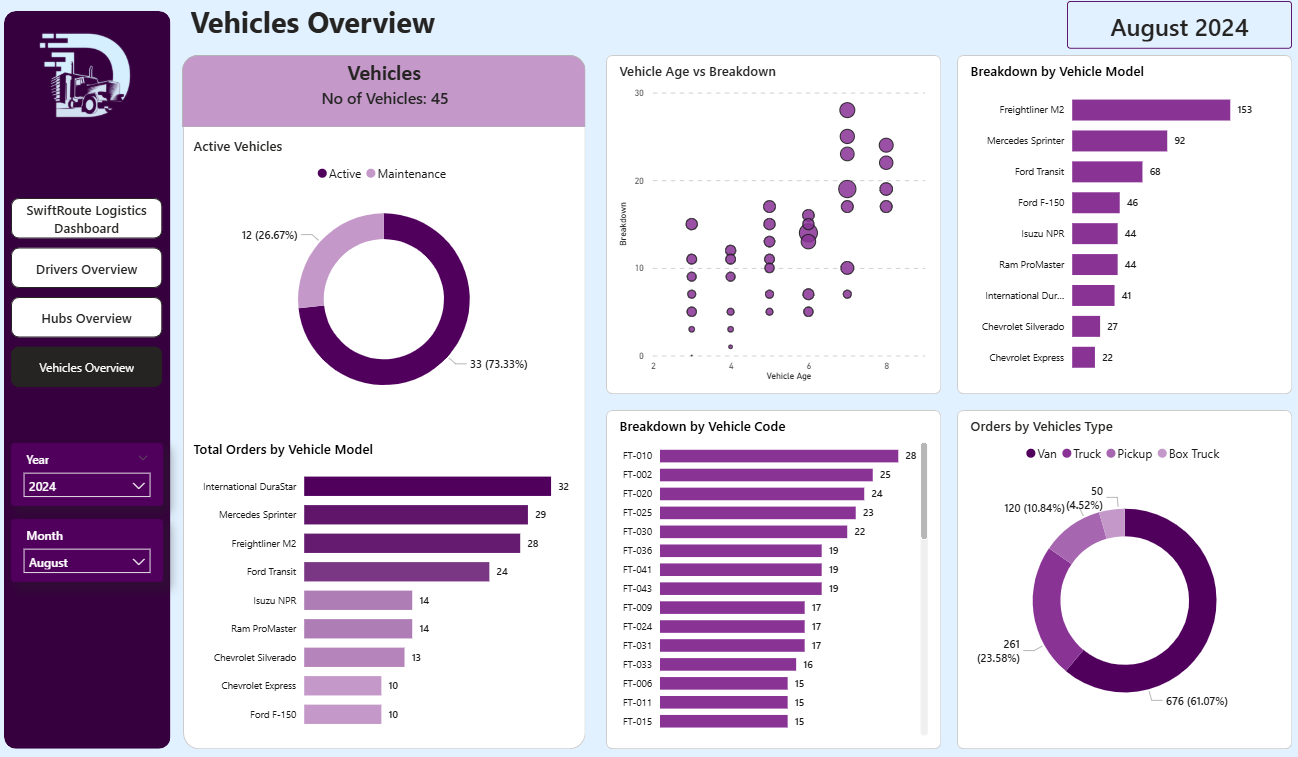

This screenshot's page, from the dashboard's own definition file:
{"tool":"powerbi","page":{"name":"Vehicles Overview","canvas":[1450,850],"ordinal":3},"visuals":[{"type":"shape","box":[7.7,15.4,185.1,819.8],"z":0},{"type":"textbox","box":[210.4,0,498,56.2],"z":1000},{"type":"slicer","fields":{"Values":["Date Table.Year"]},"box":[15.4,495.9,168.6,70],"z":2000},{"type":"slicer","fields":{"Values":["Date Table.Month"]},"box":[15.4,579.7,168.6,70],"z":3000},{"type":"image","box":[33.1,29.7,131.1,122.3],"z":4000},{"type":"cardVisual","fields":{"Data":["Orders.Year Month Title"]},"box":[1188.9,4.4,250,53.3],"z":5000},{"type":"shape","box":[676.5,63.9,372.4,376.8],"z":6000},{"type":"shape","box":[207.1,63.9,447.3,771.3],"z":7000},{"type":"shape","box":[206,63.9,448.4,80.4],"z":8000},{"type":"textbox","box":[262.2,63.9,336.1,40.8],"z":9000},{"type":"cardVisual","fields":{"Data":["Vehicles.No of Vehicles"]},"box":[325,94.8,211.6,30.9],"z":10000},{"type":"donutChart","title":"Active Vehicles","fields":{"Category":["Vehicles.Vehicle Status"],"Y":["CountNonNull(Vehicles.Vehicle ID)"]},"box":[213.8,155.4,433,311.8],"z":11000},{"type":"barChart","fields":{"Category":["Vehicles.Vehicle Model"],"Y":["Orders.Total Orders"]},"box":[213.8,492.5,433,333.9],"z":12000},{"type":"shape","box":[1066.6,63.9,372.4,376.8],"z":13000},{"type":"scatterChart","title":"Vehicle Age vs Breakdown","fields":{"X":["Vehicles.Vehicle Age"],"Y":["Vehicles.Breakdown"],"Size":["Sum(Vehicles.Breakdown)1"]},"box":[686.4,72.7,352.6,359.2],"z":14000},{"type":"shape","box":[676.5,458.4,372.4,376.8],"z":15000},{"type":"shape","box":[1066.6,458.4,372.4,376.8],"z":16000},{"type":"barChart","title":"Breakdown by Vehicle Code","fields":{"Category":["Vehicles.Vehicle Code"],"Y":["Sum(Vehicles.Breakdown)"]},"box":[686.4,467.2,352.6,359.2],"z":17000},{"type":"barChart","title":"Breakdown by Vehicle Model","fields":{"Y":["Sum(Vehicles.Breakdown)"],"Category":["Vehicles.Vehicle Model"]},"box":[1076.5,72.7,352.6,359.2],"z":18000},{"type":"donutChart","title":"Orders by Vehicles Type","fields":{"Y":["Orders.Total Orders"],"Category":["Orders.Vehicle Type"]},"box":[1076.5,467.2,352.6,359.2],"z":19000},{"type":"pageNavigator","box":[15.4,223.7,168.6,212.7],"z":20000}]}

Visuals, with their boxes in screenshot pixels (x1, y1, x2, y2), scaled from the page's 1450x850 canvas onto the 1298x757 screenshot:
shape: (x1=7, y1=14, x2=173, y2=744)
textbox: (x1=188, y1=0, x2=634, y2=50)
slicer - Date Table.Year: (x1=14, y1=442, x2=165, y2=504)
slicer - Date Table.Month: (x1=14, y1=516, x2=165, y2=579)
image: (x1=30, y1=26, x2=147, y2=135)
cardVisual - Orders.Year Month Title: (x1=1064, y1=4, x2=1288, y2=51)
shape: (x1=606, y1=57, x2=939, y2=392)
shape: (x1=185, y1=57, x2=586, y2=744)
shape: (x1=184, y1=57, x2=586, y2=129)
textbox: (x1=235, y1=57, x2=536, y2=93)
cardVisual - Vehicles.No of Vehicles: (x1=291, y1=84, x2=480, y2=112)
"Active Vehicles" donutChart: (x1=191, y1=138, x2=579, y2=416)
barChart - Vehicles.Vehicle Model x Orders.Total Orders: (x1=191, y1=439, x2=579, y2=736)
shape: (x1=955, y1=57, x2=1288, y2=392)
"Vehicle Age vs Breakdown" scatterChart: (x1=614, y1=65, x2=930, y2=385)
shape: (x1=606, y1=408, x2=939, y2=744)
shape: (x1=955, y1=408, x2=1288, y2=744)
"Breakdown by Vehicle Code" barChart: (x1=614, y1=416, x2=930, y2=736)
"Breakdown by Vehicle Model" barChart: (x1=964, y1=65, x2=1279, y2=385)
"Orders by Vehicles Type" donutChart: (x1=964, y1=416, x2=1279, y2=736)
pageNavigator: (x1=14, y1=199, x2=165, y2=389)
